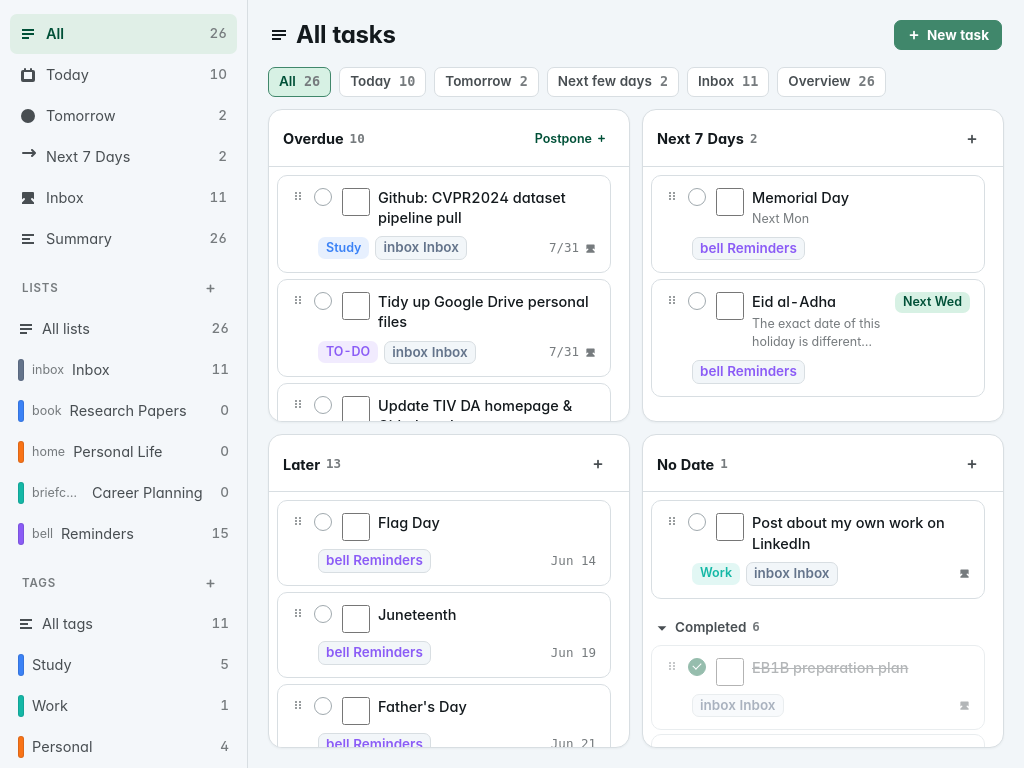
Test: TasksModule — collection overview boards › renders All tags as tag-grouped cards instead of time buckets
This screenshot has width=1024, height=768.
Click the text "All tags" at (68, 624), box x1=42 y1=616 x2=93 y2=632
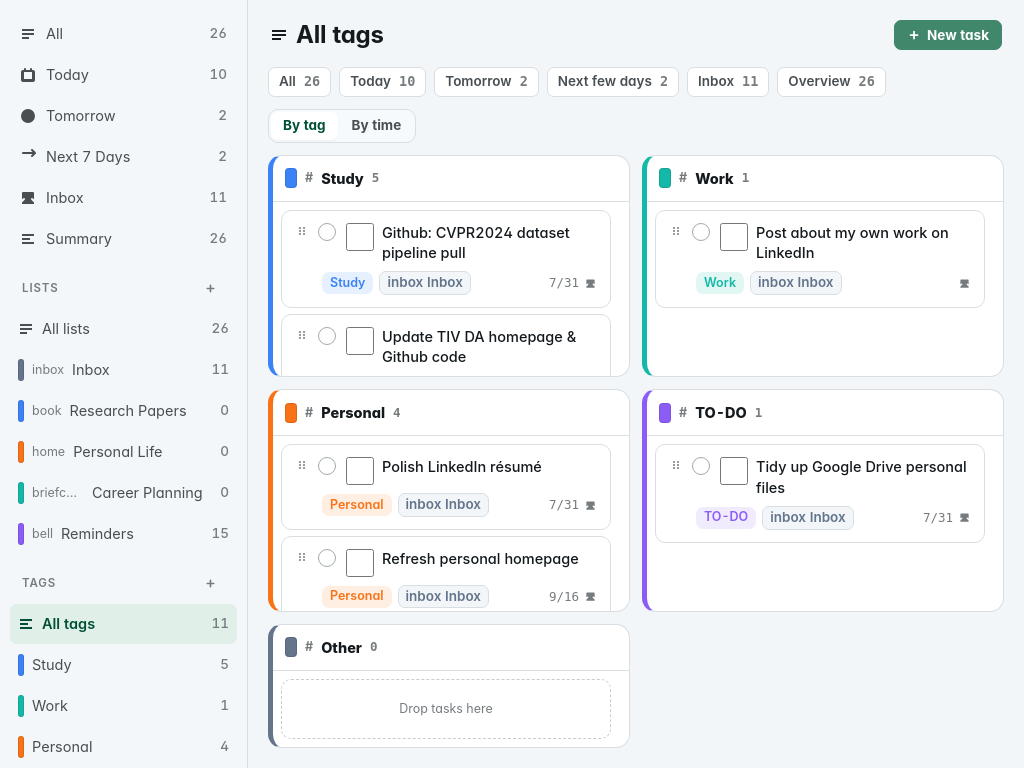
Expected: the element with class "task-group-board" is shown
Expected: no elements with class "task-col" are shown
